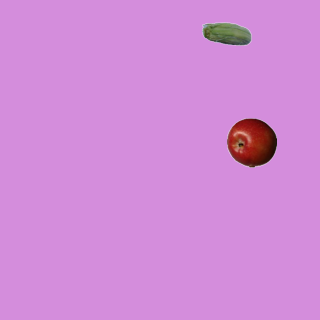Apple Braeburn: (226, 117, 276, 167)
Corn Husk: (201, 10, 251, 60)
